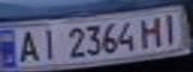2: (63, 24, 87, 60)
3: (81, 21, 106, 56)
4: (115, 18, 139, 52)
6: (100, 20, 124, 55)
A: (12, 28, 42, 64)
H: (136, 14, 166, 48)
I: (154, 11, 187, 45), (36, 26, 60, 61)
